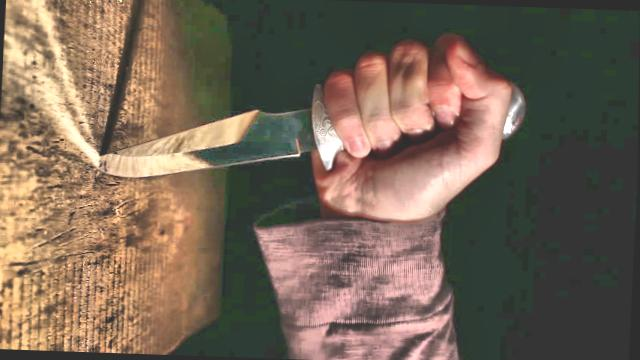knife: (81, 22, 441, 195)
